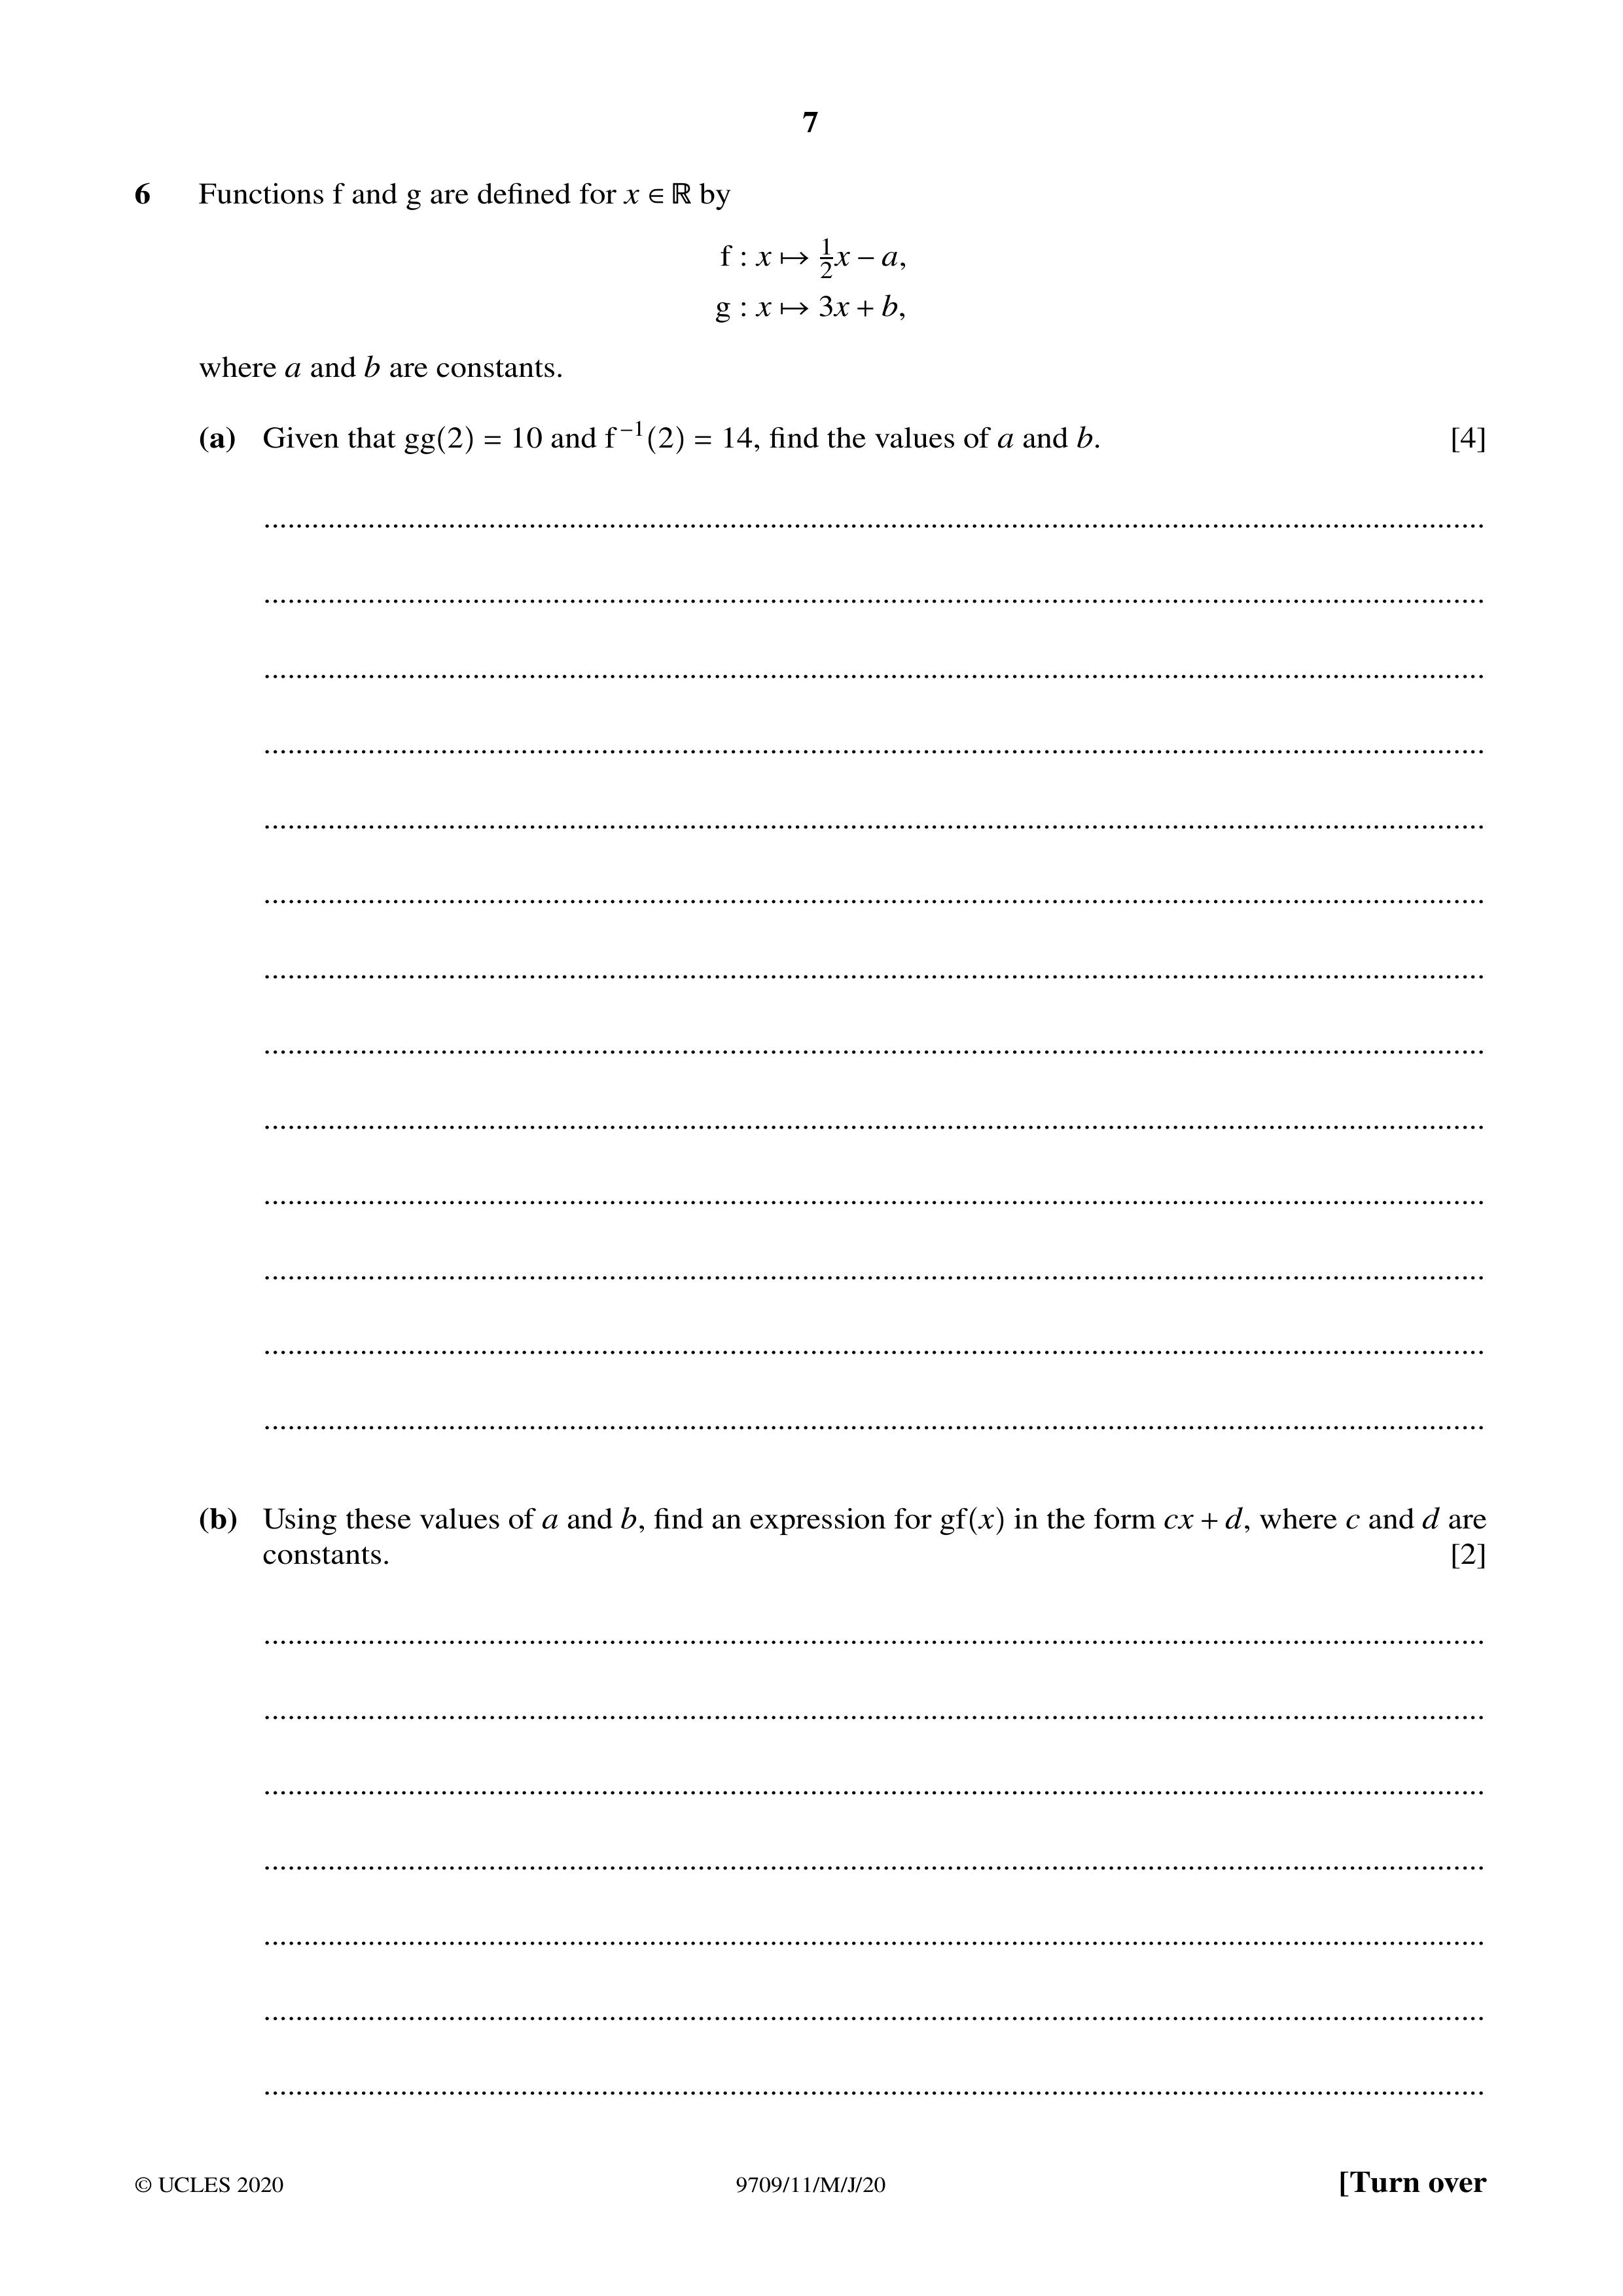question: (102, 149, 1523, 483), (125, 1457, 1532, 1620)
